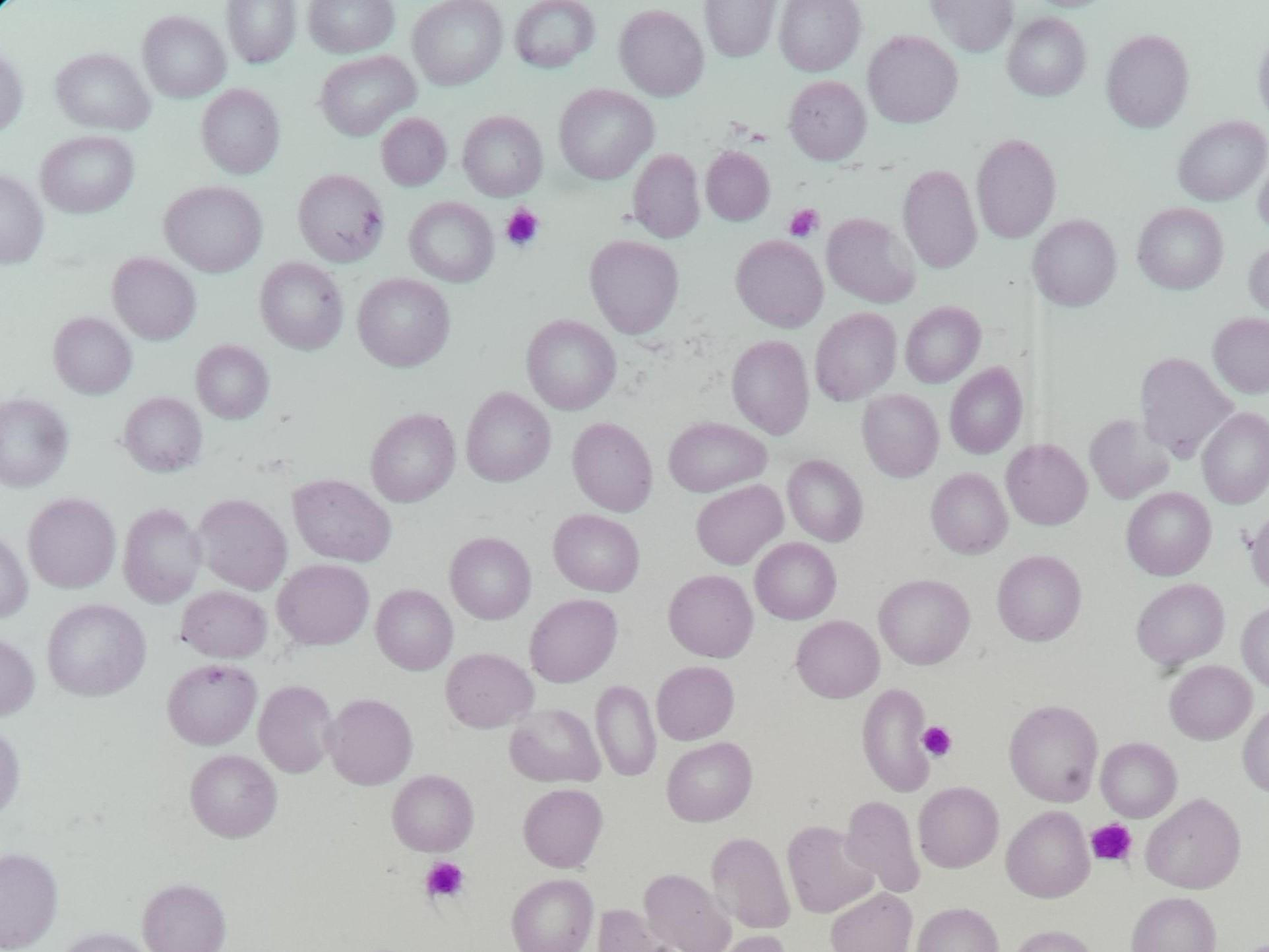Uninfected: (1137, 358, 1231, 461), (318, 50, 422, 138), (47, 605, 146, 695), (1008, 704, 1096, 805), (560, 91, 656, 183), (1145, 798, 1241, 889), (735, 240, 830, 331), (783, 825, 879, 915), (290, 480, 390, 566), (1136, 581, 1228, 673), (465, 388, 551, 486), (528, 319, 616, 414), (356, 279, 448, 369), (27, 497, 115, 590), (51, 53, 153, 133), (161, 187, 259, 270), (976, 138, 1055, 240), (409, 2, 500, 90), (198, 503, 286, 594), (590, 239, 672, 336), (824, 218, 913, 307), (879, 578, 968, 667), (869, 37, 959, 125), (294, 177, 386, 263), (694, 484, 789, 567), (570, 420, 651, 515), (189, 753, 277, 840), (668, 573, 755, 661), (1030, 219, 1113, 311), (818, 313, 900, 406), (167, 664, 258, 747), (142, 15, 229, 101), (1091, 415, 1177, 502), (124, 509, 201, 606), (371, 412, 452, 504), (273, 569, 368, 647), (529, 598, 615, 684), (795, 617, 882, 702), (1127, 491, 1212, 578), (1006, 810, 1088, 900), (665, 742, 755, 824), (38, 138, 135, 214), (1109, 38, 1190, 129), (259, 261, 340, 351), (712, 837, 791, 929), (1137, 207, 1222, 292), (407, 201, 494, 284), (330, 700, 412, 788), (113, 255, 194, 344), (729, 341, 806, 434), (620, 12, 702, 98), (862, 689, 930, 792), (916, 788, 999, 872), (1000, 559, 1082, 644), (904, 169, 973, 270), (949, 367, 1024, 459), (667, 424, 768, 492), (450, 539, 533, 621), (1181, 120, 1265, 201), (463, 116, 543, 201), (202, 88, 278, 177), (445, 654, 532, 730), (510, 714, 599, 788), (1006, 444, 1087, 525), (1006, 18, 1088, 98), (647, 875, 732, 952), (863, 394, 938, 481), (845, 806, 919, 894), (54, 316, 134, 397), (523, 789, 604, 869), (554, 513, 637, 591), (789, 80, 866, 164), (934, 473, 1009, 559), (391, 774, 471, 854), (756, 541, 837, 620), (377, 587, 451, 672), (1171, 664, 1253, 740), (256, 687, 328, 773), (1202, 414, 1269, 506), (632, 151, 701, 240), (907, 307, 982, 388), (777, 0, 861, 72), (180, 593, 270, 660), (124, 397, 202, 474), (0, 400, 66, 490), (1100, 741, 1176, 819), (514, 877, 592, 952), (786, 460, 859, 540), (514, 0, 596, 71), (196, 346, 270, 421), (659, 667, 734, 741), (379, 116, 450, 190), (142, 889, 225, 952), (831, 889, 914, 952), (598, 686, 655, 775), (306, 0, 394, 55), (931, 0, 1017, 56), (223, 0, 299, 63), (703, 153, 769, 224), (1214, 317, 1269, 394)
